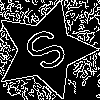S: (20, 25, 77, 82)
